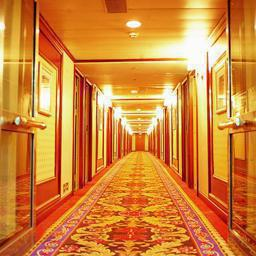Puerta: (1, 2, 41, 255), (17, 47, 61, 230), (226, 3, 255, 255), (208, 45, 233, 212), (72, 73, 85, 194), (181, 80, 194, 187)
